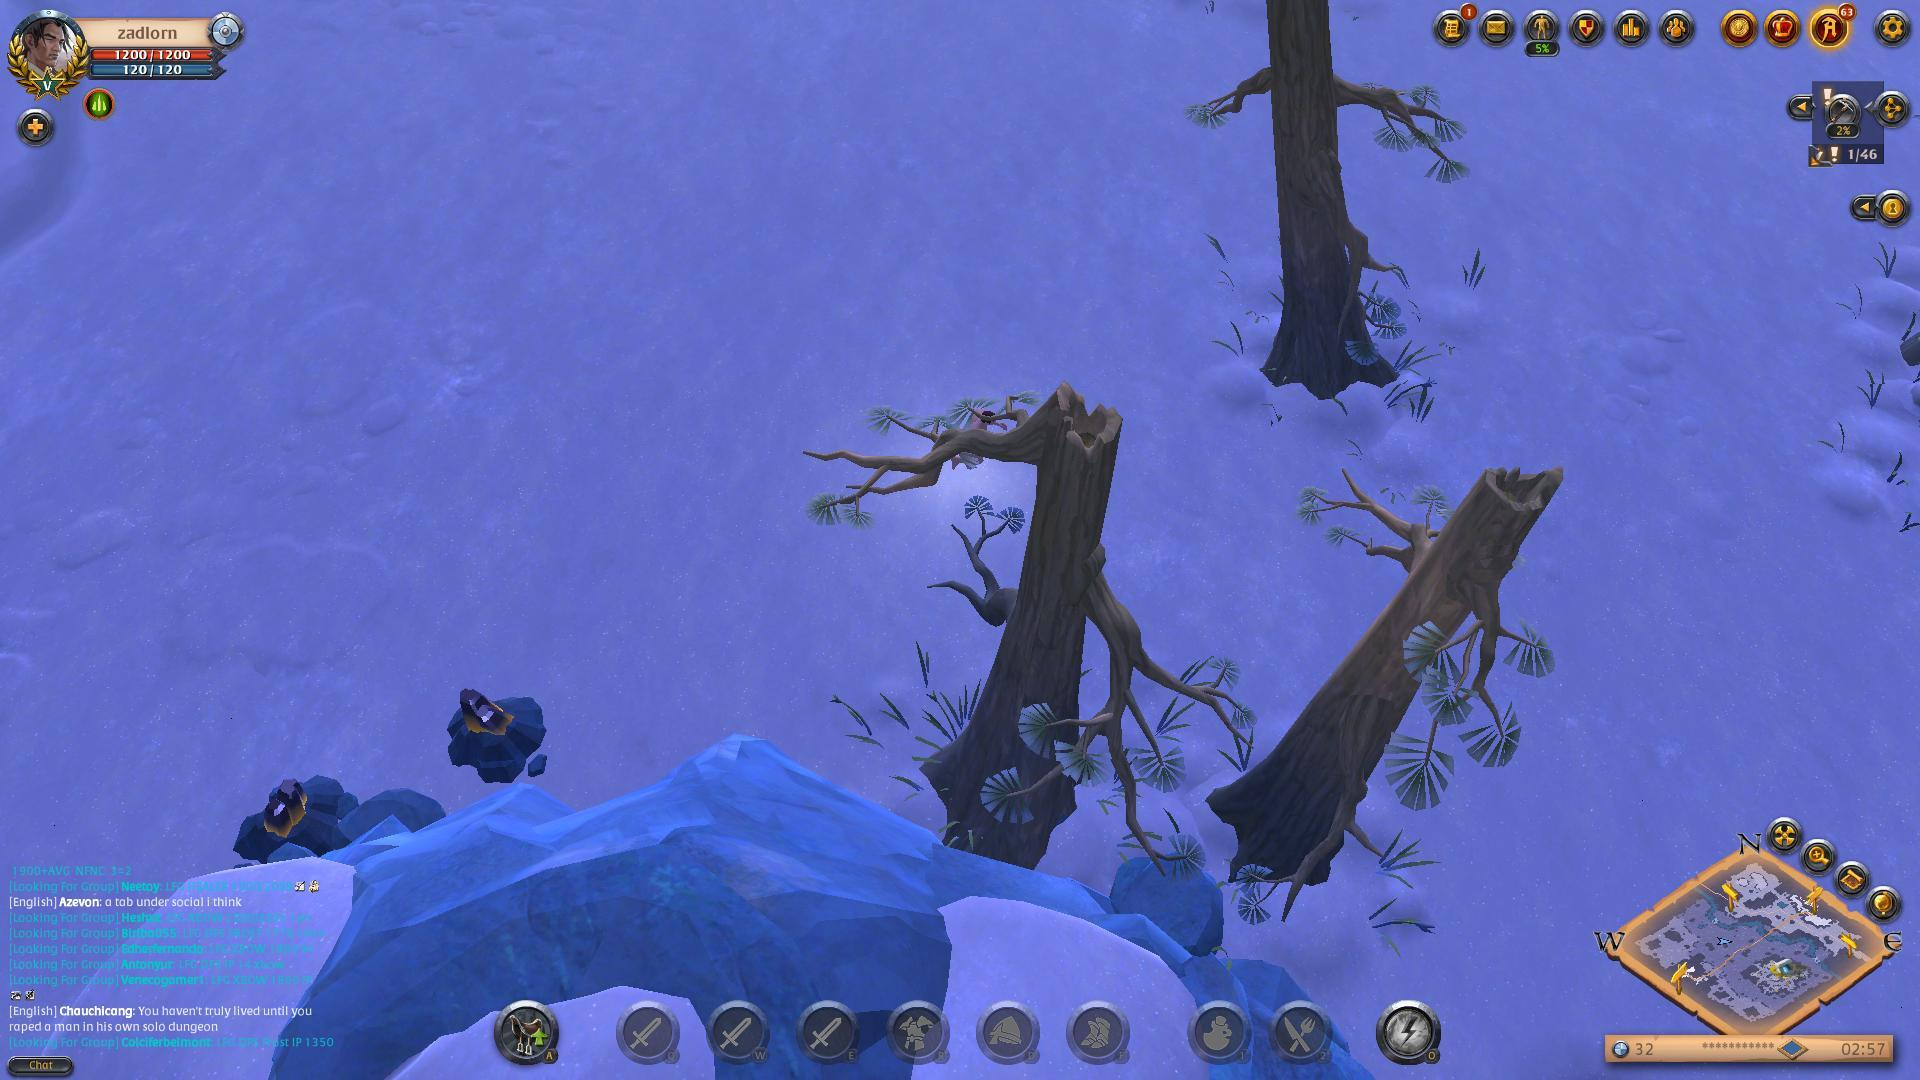copper_ore: (434, 688, 575, 787), (235, 767, 355, 856)
